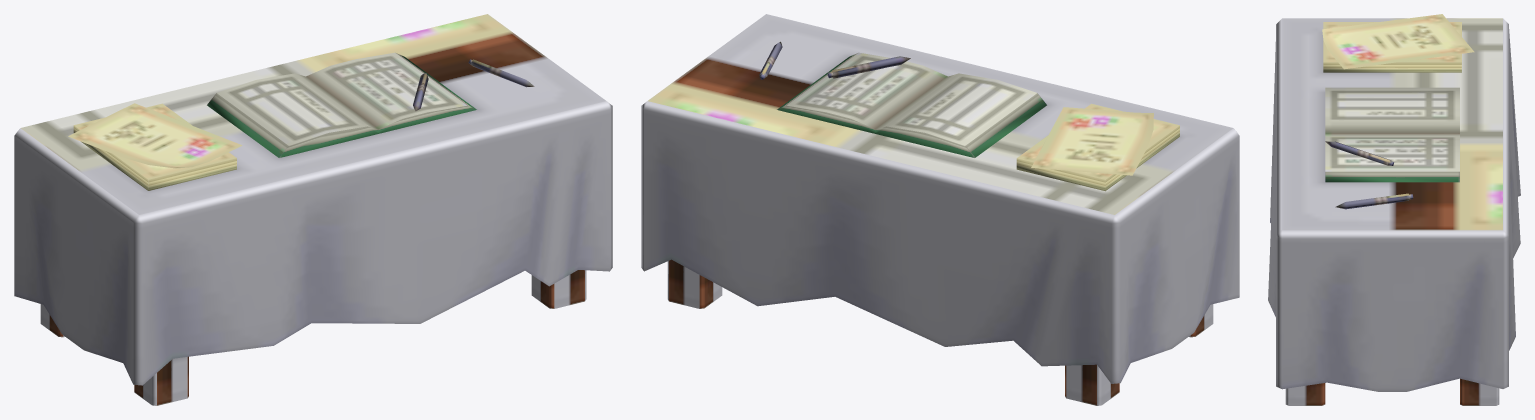
Rendered from int_mse_desk.dae.
The picture shows the model from 3 angles, left to right: view 1: azimuth 30°, elevation 25°; view 2: azimuth 150°, elevation 25°; view 3: azimuth 270°, elevation 25°; orthographic projection. The views are drawn at different scales.
Parts seen in each view (by area): view 1: int_mse_desk; view 2: int_mse_desk; view 3: int_mse_desk.
Boxes of the visible parts, <box> form: int_mse_desk: <box>14,14,612,405</box>; int_mse_desk: <box>641,14,1239,405</box>; int_mse_desk: <box>1268,14,1520,405</box>.
Bounding box in the file's own units: 56.18 × 23.59 × 27.18.
Materials: 1 (1 with a texture image).
